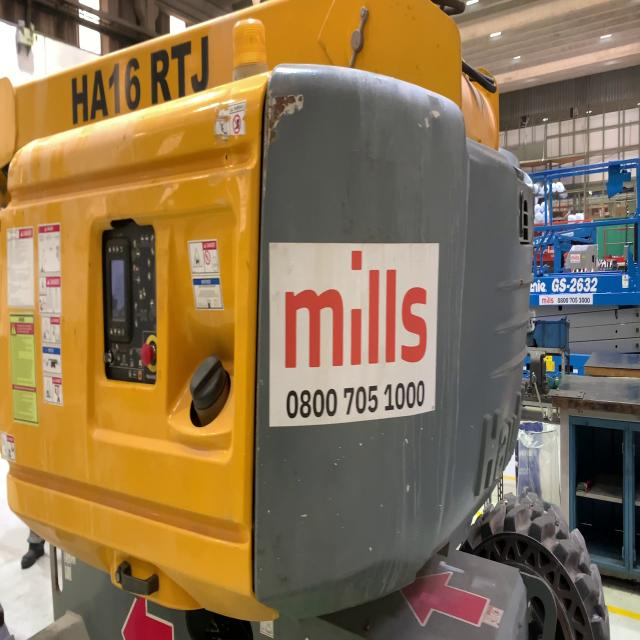Adesivo Longo: (539, 292, 594, 305)
Adesivos: (267, 233, 444, 431)
